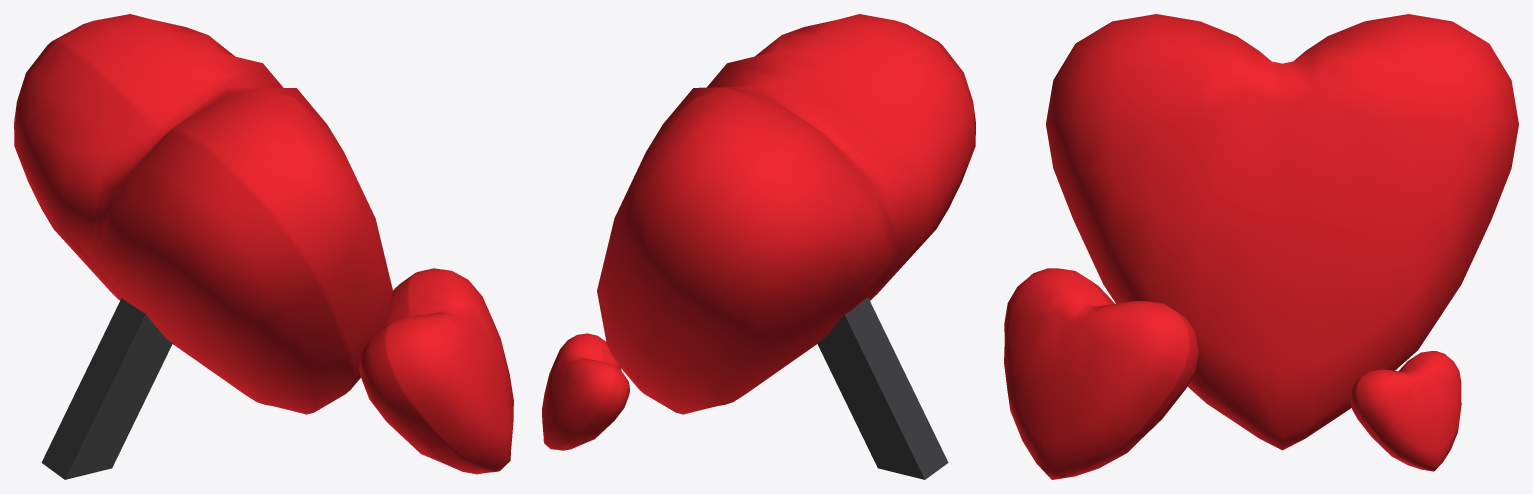
Rendered from MM_Hearts.fbx.
3 views of the same model, side by side, from view 1: azimuth 30°, elevation 25°; view 2: azimuth 150°, elevation 25°; view 3: azimuth 270°, elevation 25° (orthographic).
Parts seen in each view (by area): view 1: MM_Hearts; view 2: MM_Hearts; view 3: MM_Hearts.
Boxes of the visible parts, left/top/right/bottom form: MM_Hearts: left=14, top=14, right=513, bottom=479; MM_Hearts: left=542, top=14, right=975, bottom=479; MM_Hearts: left=1004, top=14, right=1518, bottom=479.
Bounding box in the file's own units: 123 × 118 × 151.
